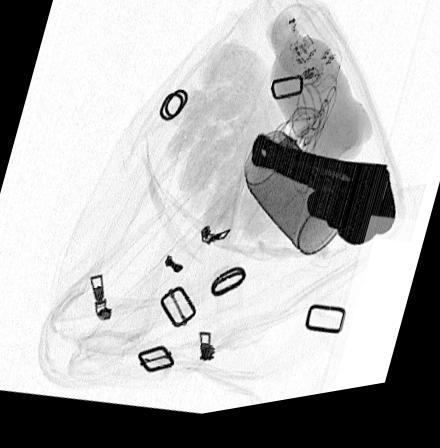Wrench: (249, 142, 397, 259)
